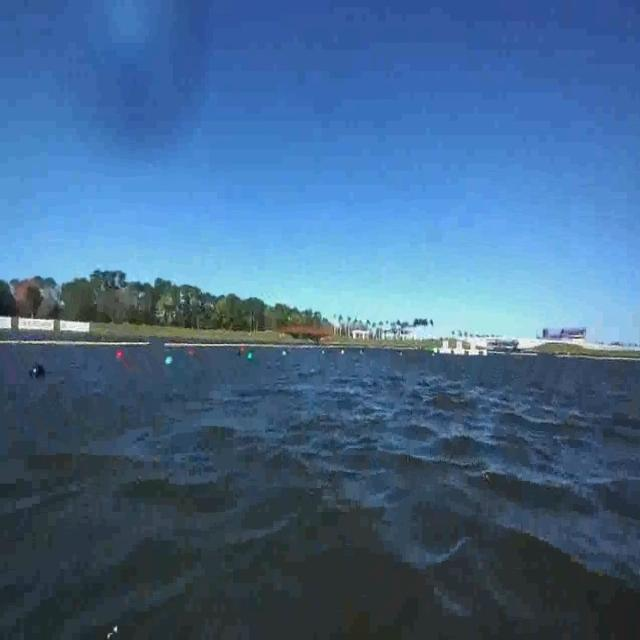black-buoy: (31, 361, 46, 379)
green-buoy: (163, 356, 172, 366)
